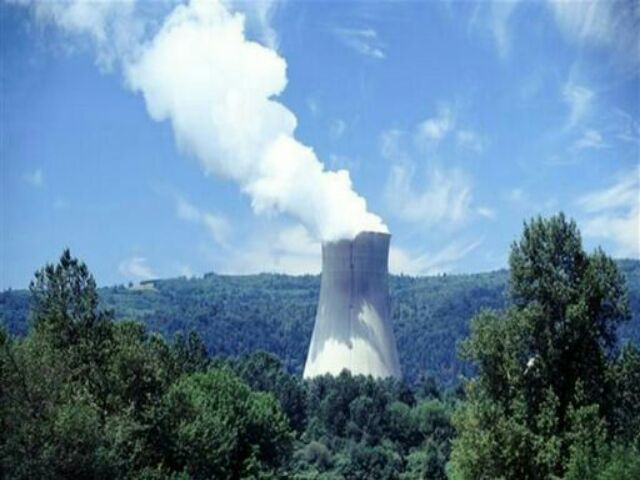dust: (120, 1, 405, 252)
